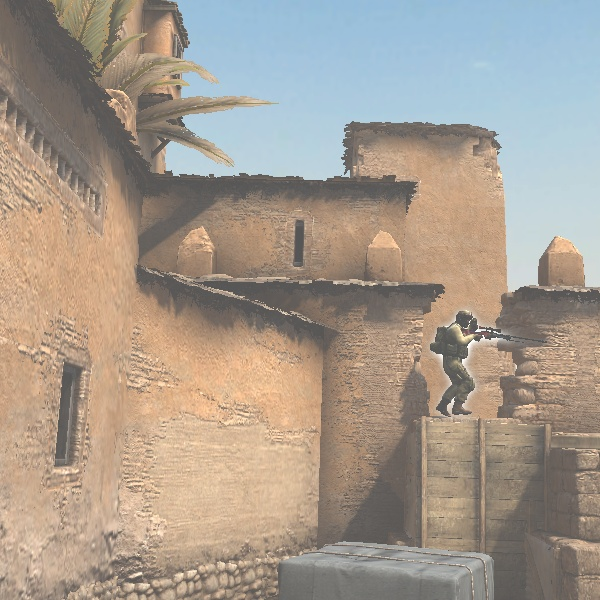ct_body: (431, 308, 493, 416)
ct_head: (455, 309, 473, 331)
